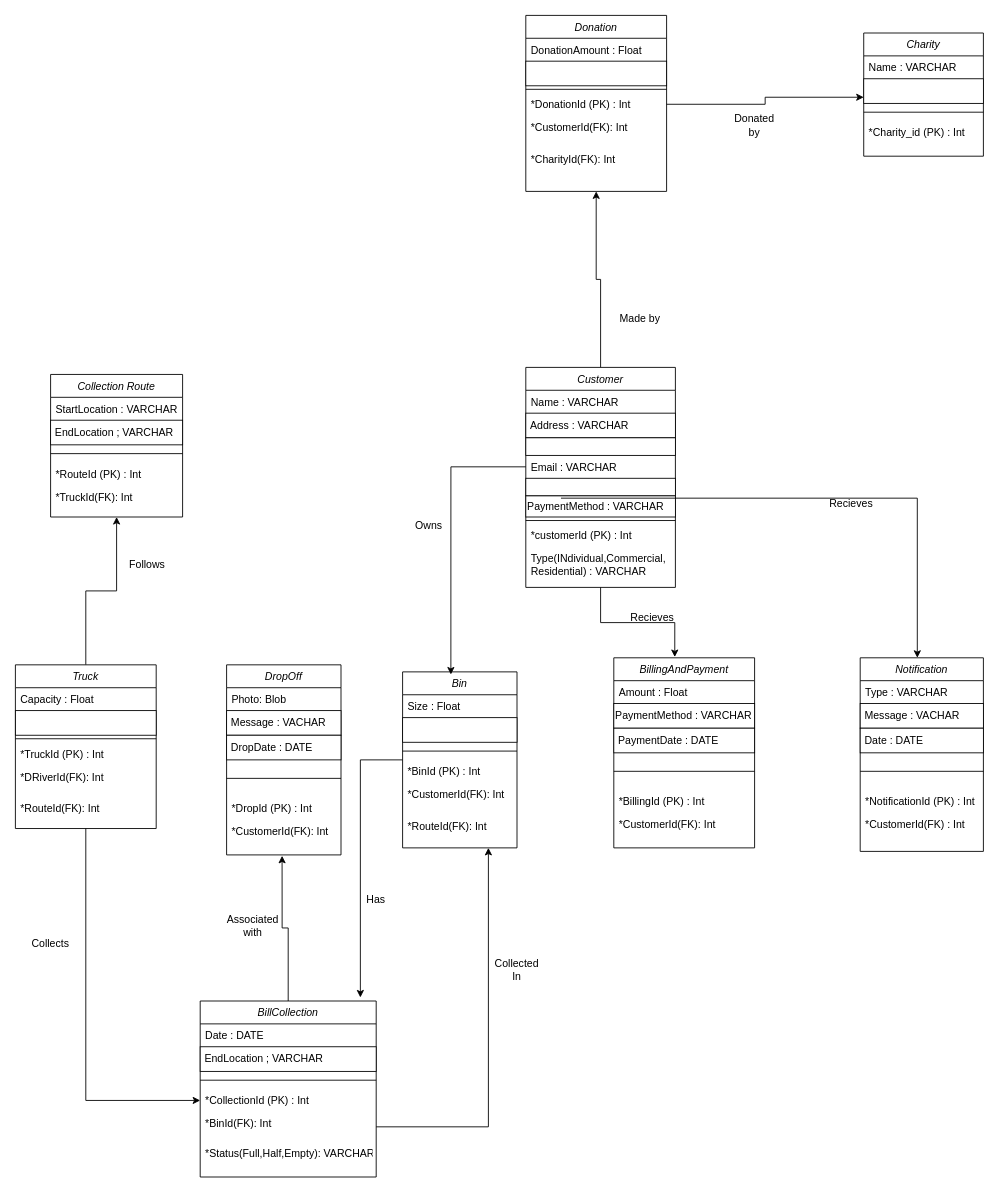
Some shapes in this 999 by 1192 pixel diagram are drawn without their labels. Each missing label, with the centre of its shape:
Availability : bool: pixel 85 722
BillingPreference : VARCHAR: pixel 600 486
Description : VARCHAR: pixel 923 90
DonationReceipt : VARCHAR: pixel 596 73
Phone : Int: pixel 600 446
Status : VARCHAR: pixel 459 729
